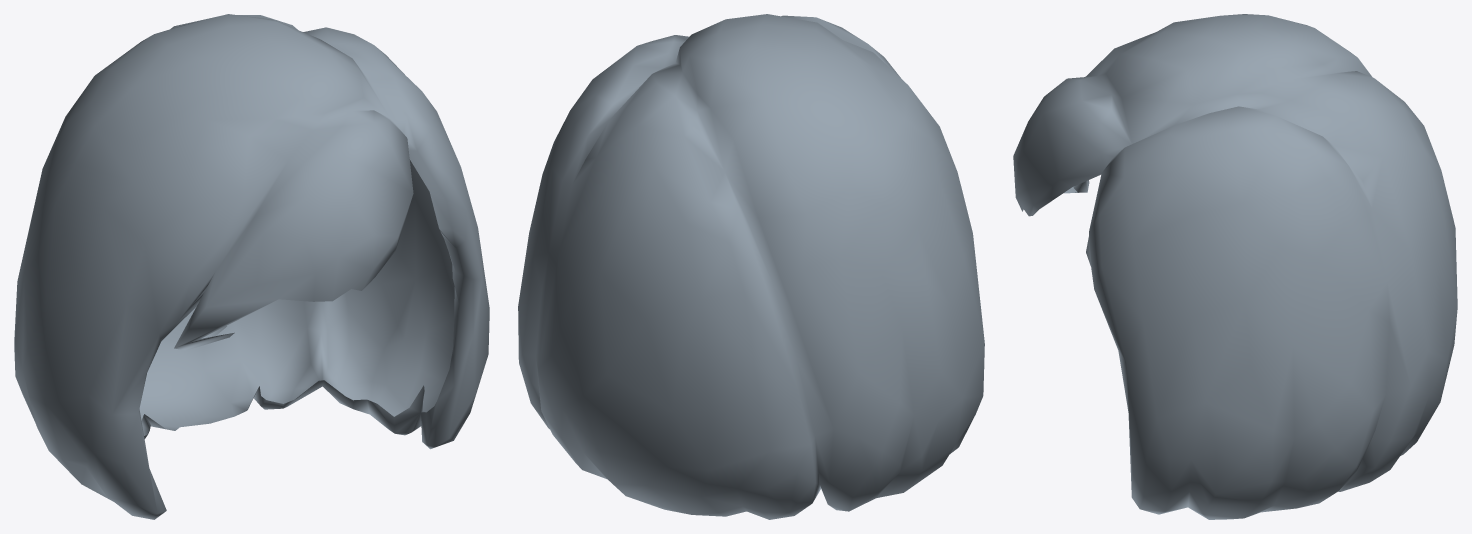
Rendered from cabelo_2.glb.
3 renders of one model, left to right at view 1: azimuth 30°, elevation 25°; view 2: azimuth 150°, elevation 25°; view 3: azimuth 270°, elevation 25°, orthographic. The views are drawn at different scales.
Parts seen in each view (by area): view 1: cabelo_2; view 2: cabelo_2; view 3: cabelo_2.
Boxes of the visible parts, x1,y1,x2,y2 form: cabelo_2: [14, 14, 489, 519]; cabelo_2: [518, 14, 984, 519]; cabelo_2: [1013, 14, 1457, 519].
Size of the model in its own units: 0.2109 by 0.2084 by 0.1988.
